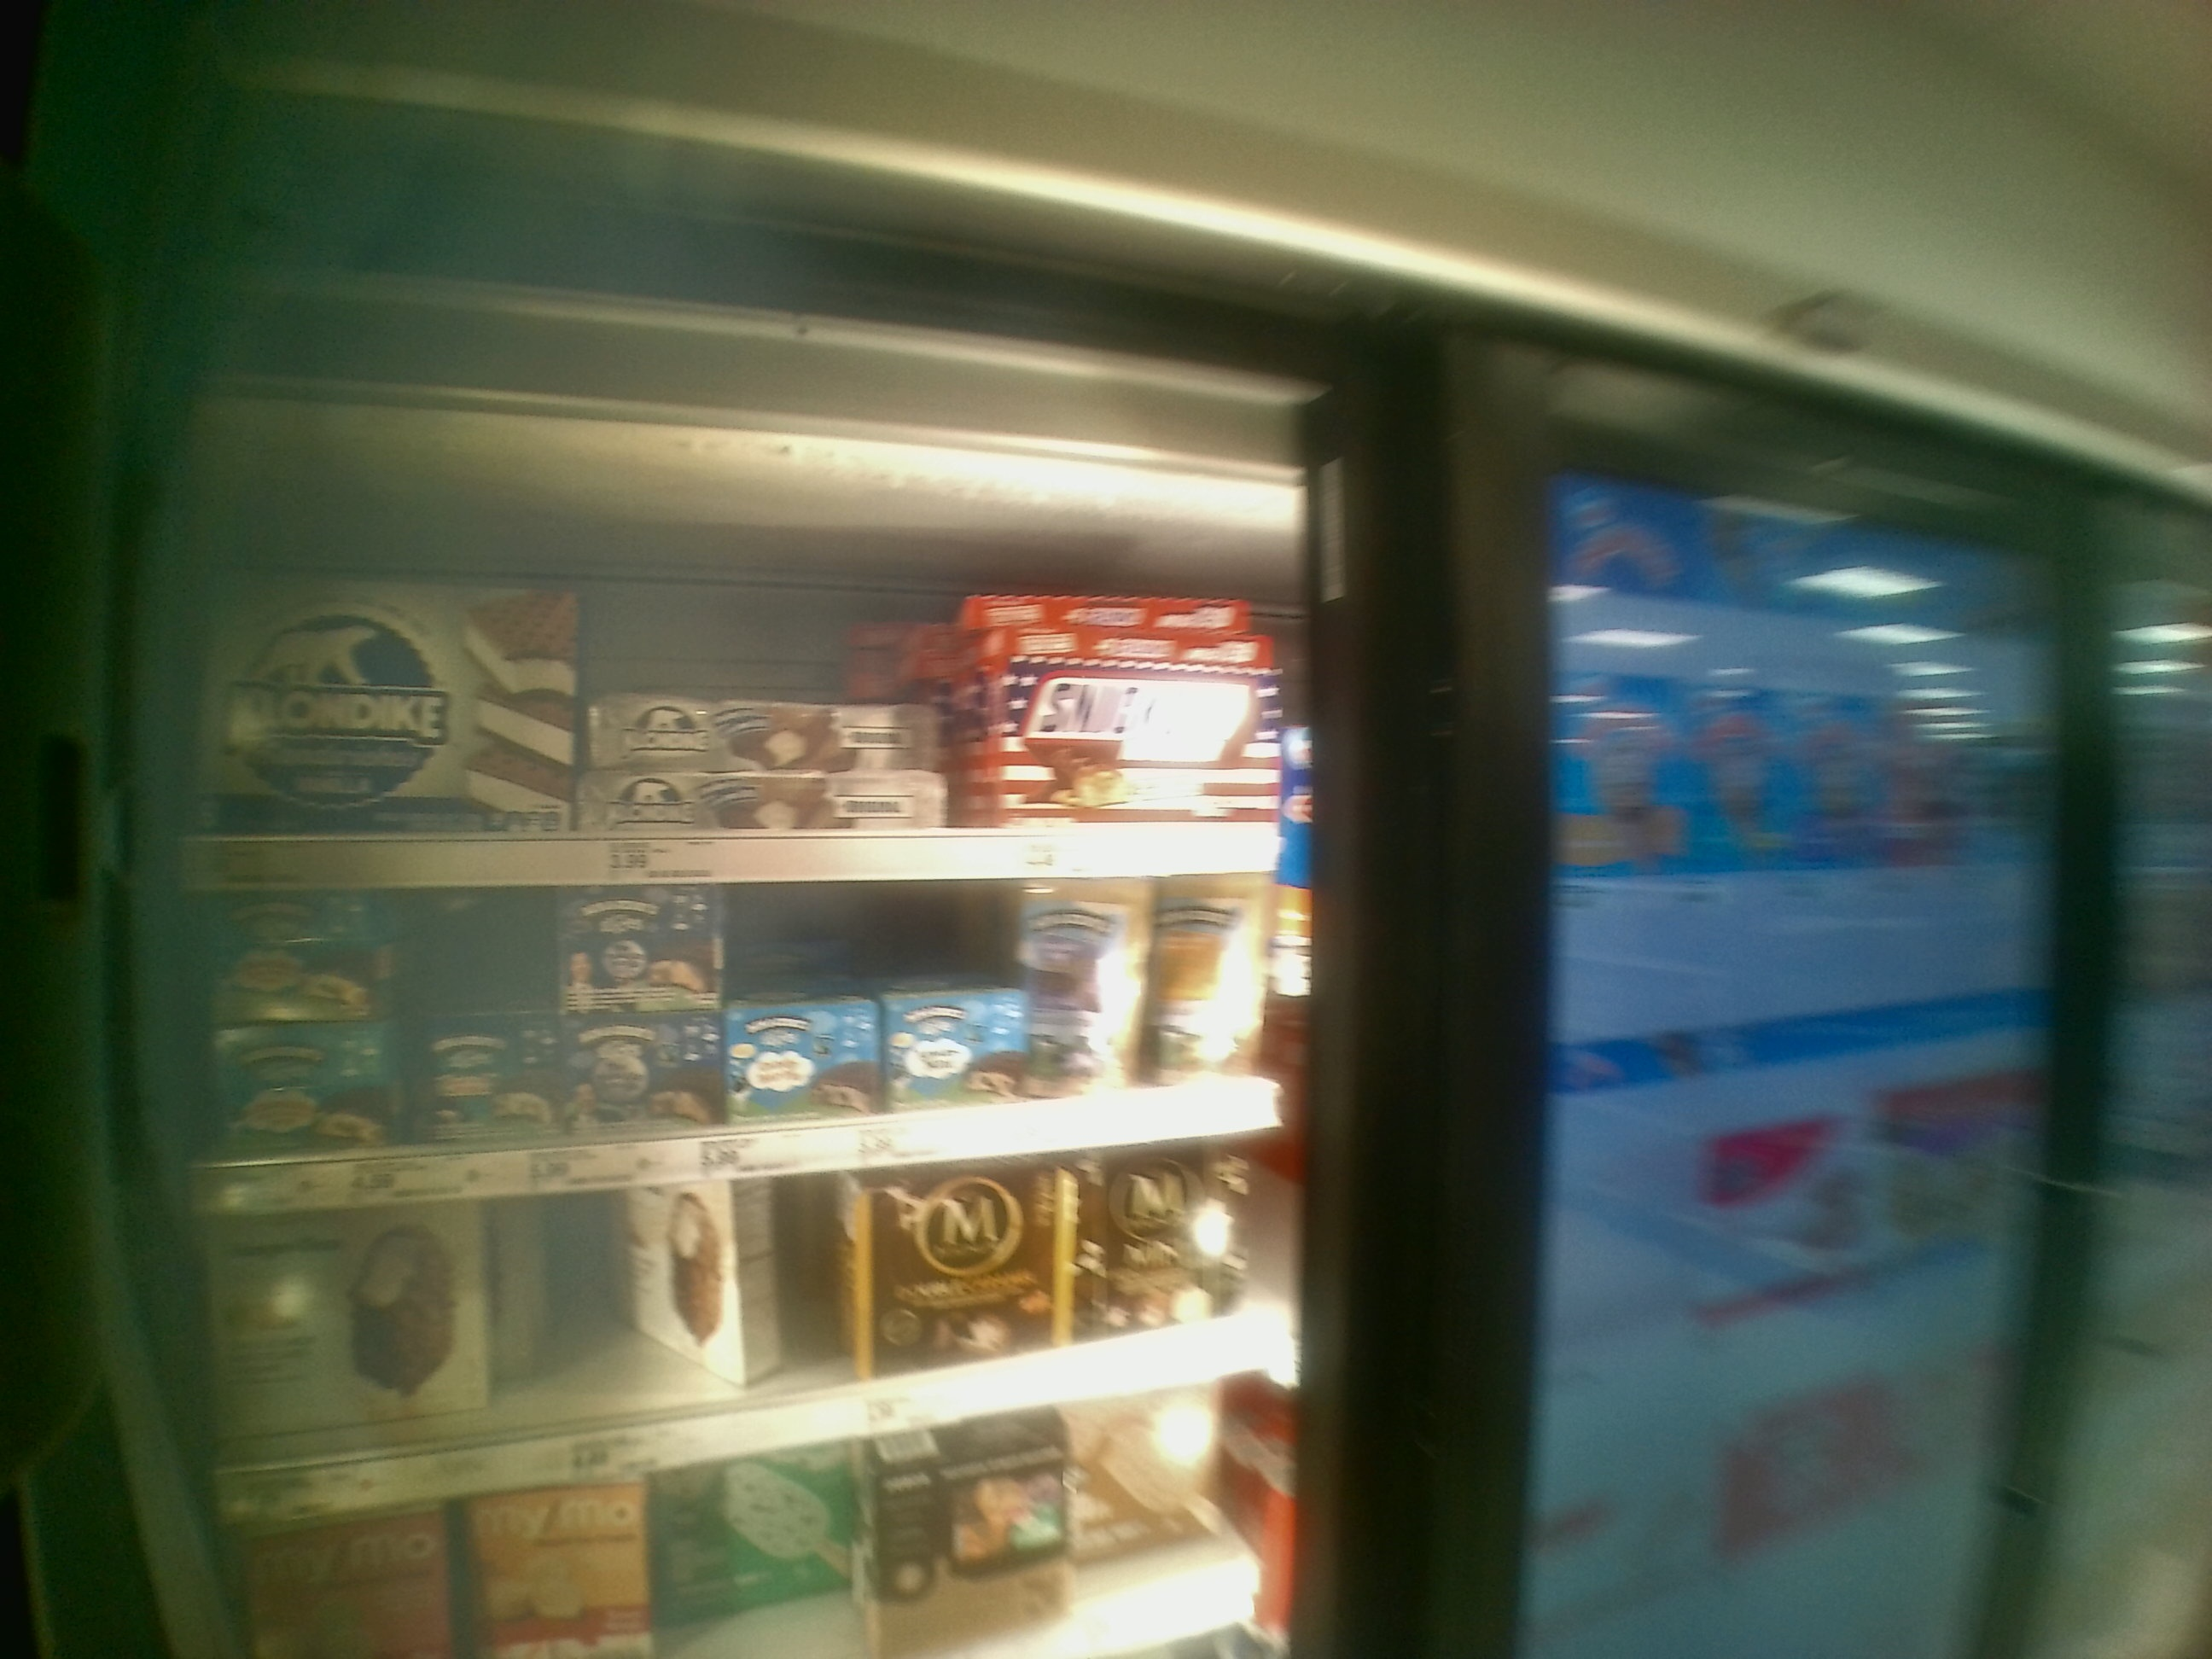shelf: (199, 894, 1310, 1220)
